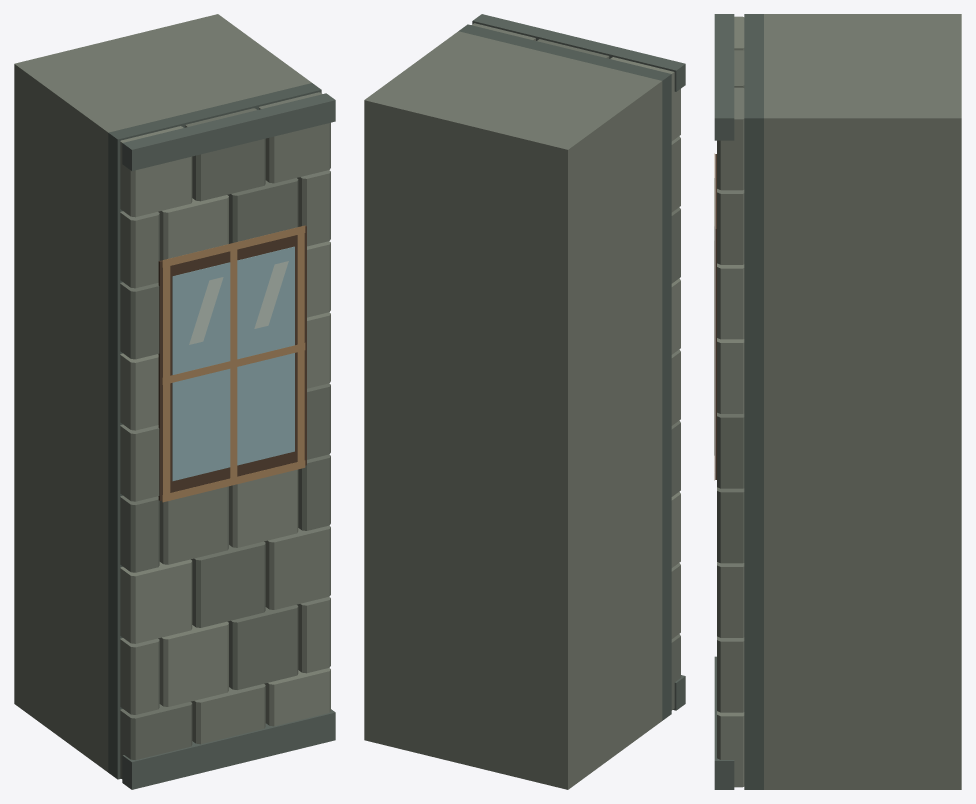
The model's file is wall_stone_window.glb.
The picture shows the model from 3 angles, left to right: view 1: azimuth 30°, elevation 25°; view 2: azimuth 150°, elevation 25°; view 3: azimuth 270°, elevation 25°; orthographic projection. The views are drawn at different scales.
Parts seen in each view (by area): view 1: face_front, geometry; view 2: geometry, face_front; view 3: geometry, face_front.
Boxes of the visible parts, x1,y1,x2,y2 form: face_front: (108,83,335,789); geometry: (14,14,311,772); geometry: (364,31,662,789); face_front: (458,14,685,720); geometry: (764,14,961,789); face_front: (714,14,763,789).
Size of the model in its own units: 1 by 3 by 1.
